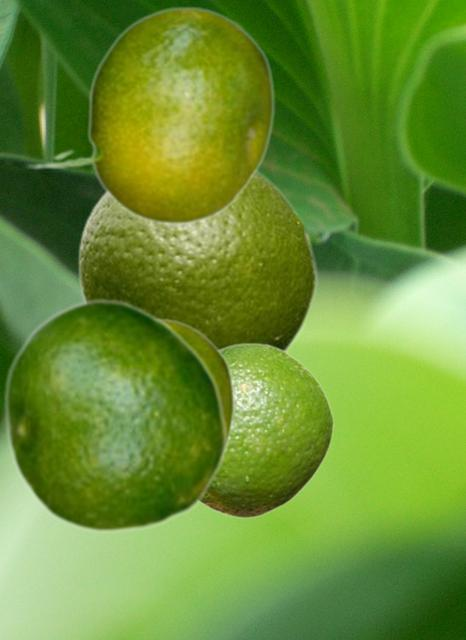calamansi: (25, 5, 274, 224), (2, 297, 228, 533), (77, 170, 317, 352), (201, 342, 333, 518), (163, 317, 234, 450)
